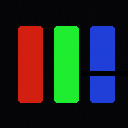3 line_h: (82, 71, 127, 75)
